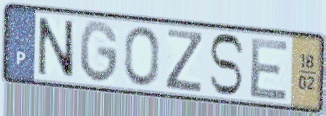E: (248, 37, 291, 102)
G: (78, 18, 121, 86)
N: (37, 15, 77, 81)
O: (122, 24, 161, 89)
S: (207, 32, 247, 98)
Z: (163, 27, 206, 95)
